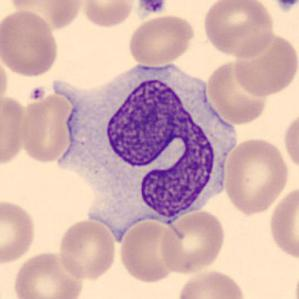Monocyte: (48, 57, 242, 227)
Platelets: (137, 0, 168, 15), (28, 85, 46, 101), (275, 0, 298, 12)
RBC: (221, 136, 291, 217), (158, 208, 227, 276), (204, 56, 270, 126), (117, 216, 184, 284), (231, 30, 298, 98), (201, 0, 276, 59), (18, 91, 77, 165), (0, 7, 61, 78), (56, 217, 118, 282), (10, 248, 85, 299), (126, 13, 196, 67), (0, 196, 38, 265), (8, 0, 85, 32), (268, 184, 298, 263), (175, 267, 248, 299), (0, 92, 28, 168), (80, 0, 136, 29), (282, 109, 299, 172), (0, 54, 10, 114)
